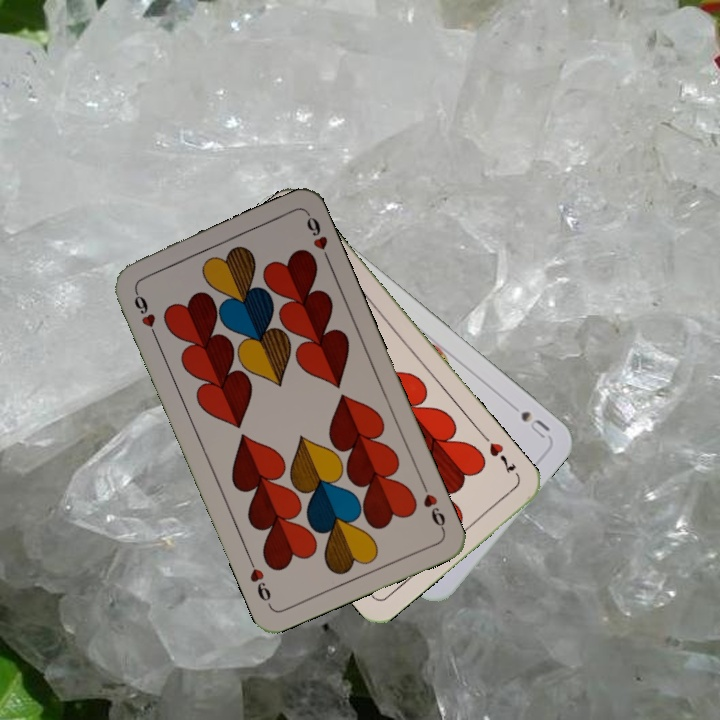H7: (485, 438, 519, 477)
H9: (417, 478, 448, 534), (130, 285, 160, 342)
SU: (502, 397, 553, 441)
